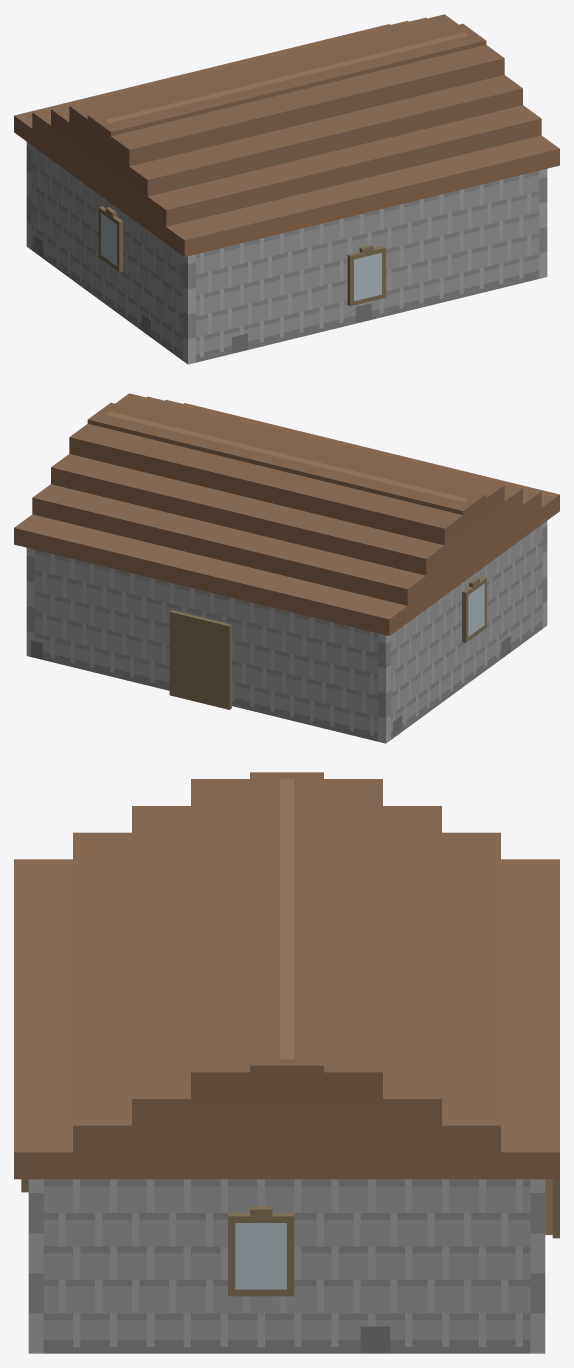
Rendered from lonja_pescado_03.glb.
The picture shows the model from 3 angles, top to bottom: view 1: azimuth 30°, elevation 25°; view 2: azimuth 150°, elevation 25°; view 3: azimuth 270°, elevation 25°; orthographic projection. The views are drawn at different scales.
Visible parts, largest first — view 1: lonja_pescado_03; view 2: lonja_pescado_03; view 3: lonja_pescado_03.
Boxes of the visible parts, box(x1,y1,x2,y2) form: lonja_pescado_03: box(14, 14, 559, 364); lonja_pescado_03: box(14, 393, 559, 743); lonja_pescado_03: box(14, 772, 559, 1353).
Bounding box in the file's own units: 9.4 × 4.4 × 7.4.
